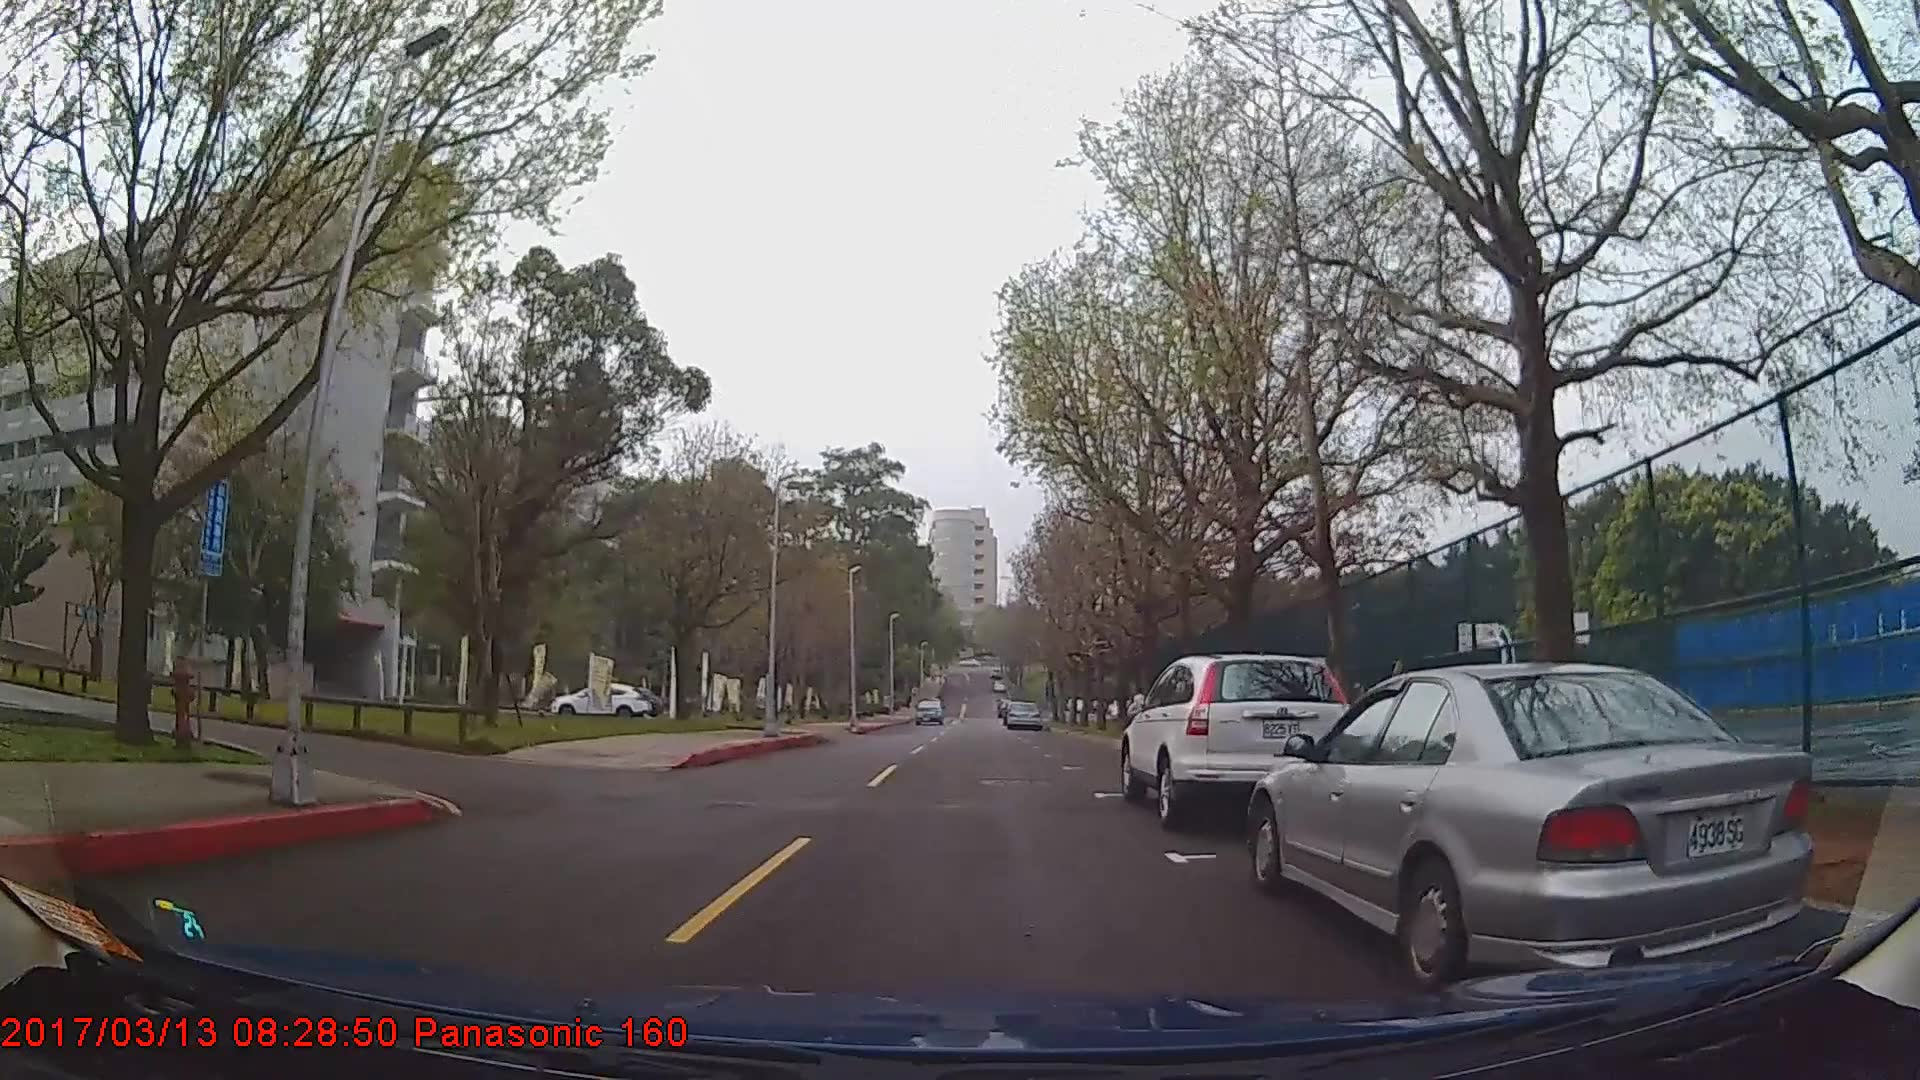vehicle: (1247, 661, 1817, 986), (1120, 655, 1357, 828), (553, 680, 651, 719), (1004, 698, 1040, 731), (914, 695, 944, 724)
